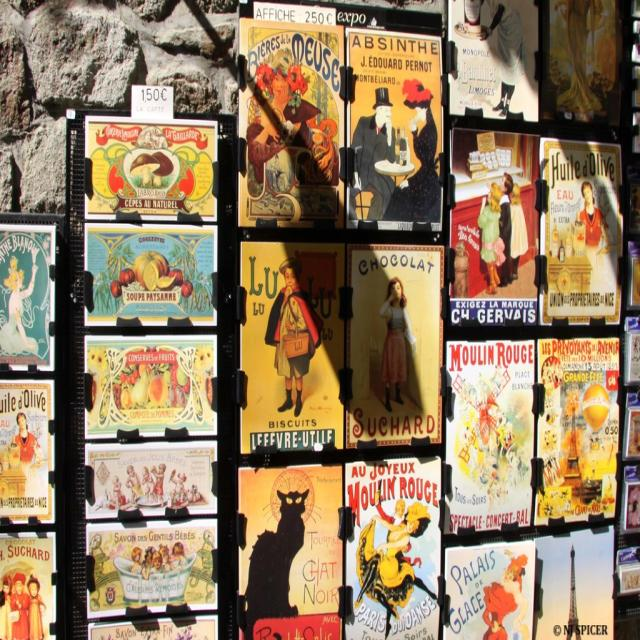Person: (354, 501, 431, 638), (264, 259, 324, 419), (375, 493, 436, 639), (383, 80, 442, 222), (350, 88, 396, 218), (477, 0, 527, 116), (252, 64, 314, 142), (380, 278, 412, 410), (576, 182, 613, 289), (482, 558, 527, 640), (0, 256, 39, 350), (114, 466, 203, 507), (478, 183, 505, 294), (131, 545, 189, 580), (11, 414, 42, 470), (511, 184, 528, 280), (501, 172, 512, 286), (12, 574, 29, 640), (28, 574, 45, 640)
